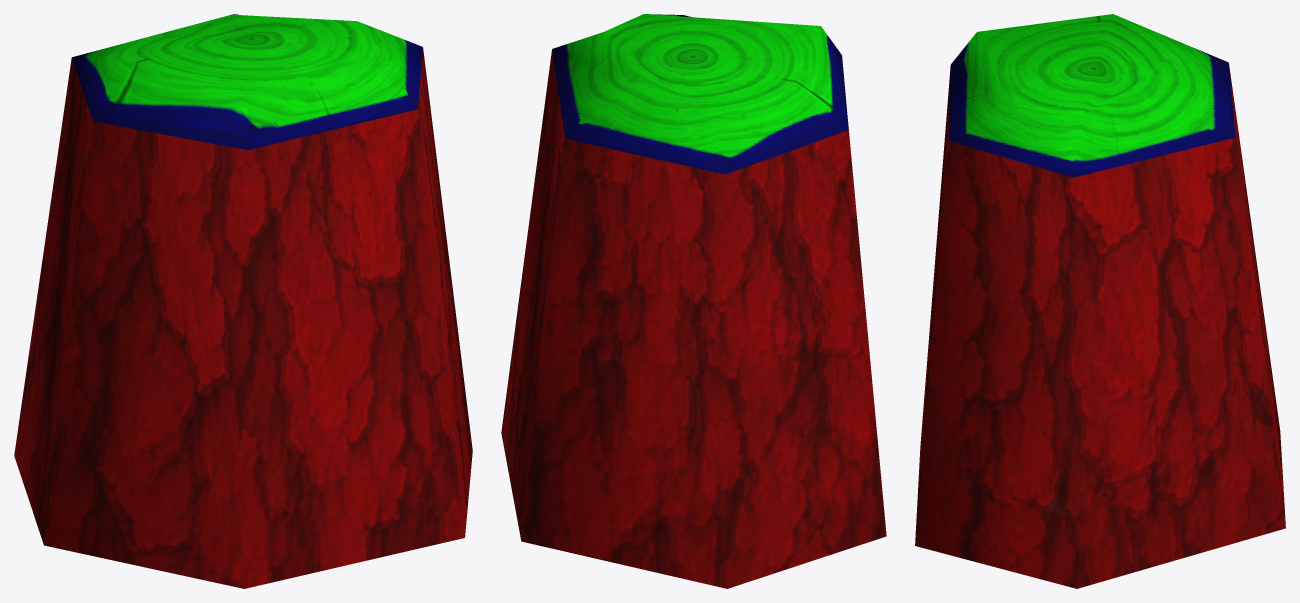
The model's file is OakStump02.fbx.
3 views of the same model, side by side, from view 1: azimuth 30°, elevation 25°; view 2: azimuth 150°, elevation 25°; view 3: azimuth 270°, elevation 25° (orthographic). The views are drawn at different scales.
Parts seen in each view (by area): view 1: OakStump02_LOD0; view 2: OakStump02_LOD0; view 3: OakStump02_LOD0.
Part boxes in pixels (x1,y1,x2,y2): OakStump02_LOD0: (14, 14, 472, 588); OakStump02_LOD0: (501, 14, 886, 588); OakStump02_LOD0: (915, 14, 1285, 588).
Size of what is drawn, in the model's own units: 0.7508 by 0.7907 by 0.6209.
